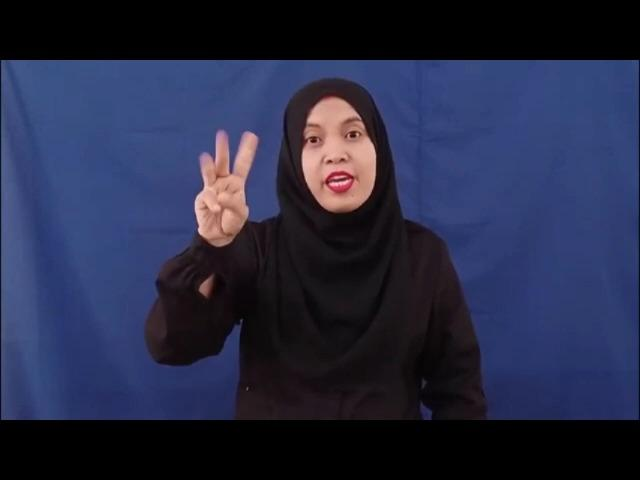W: (193, 124, 263, 240)
